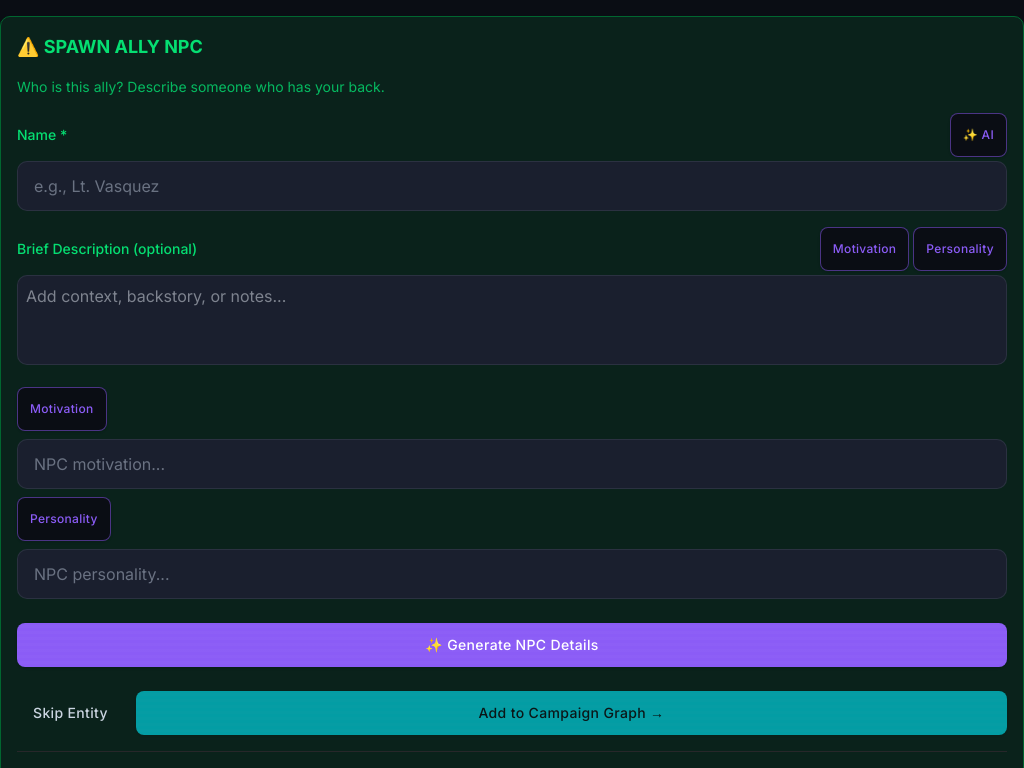
Test: EntitySpawnForm › disables the Add button when the generated NPC name is pending GM review in strict mode
Type "Manual Name" into the field labelled "Name *". click: (512, 186)
box: [17,161,1007,211]
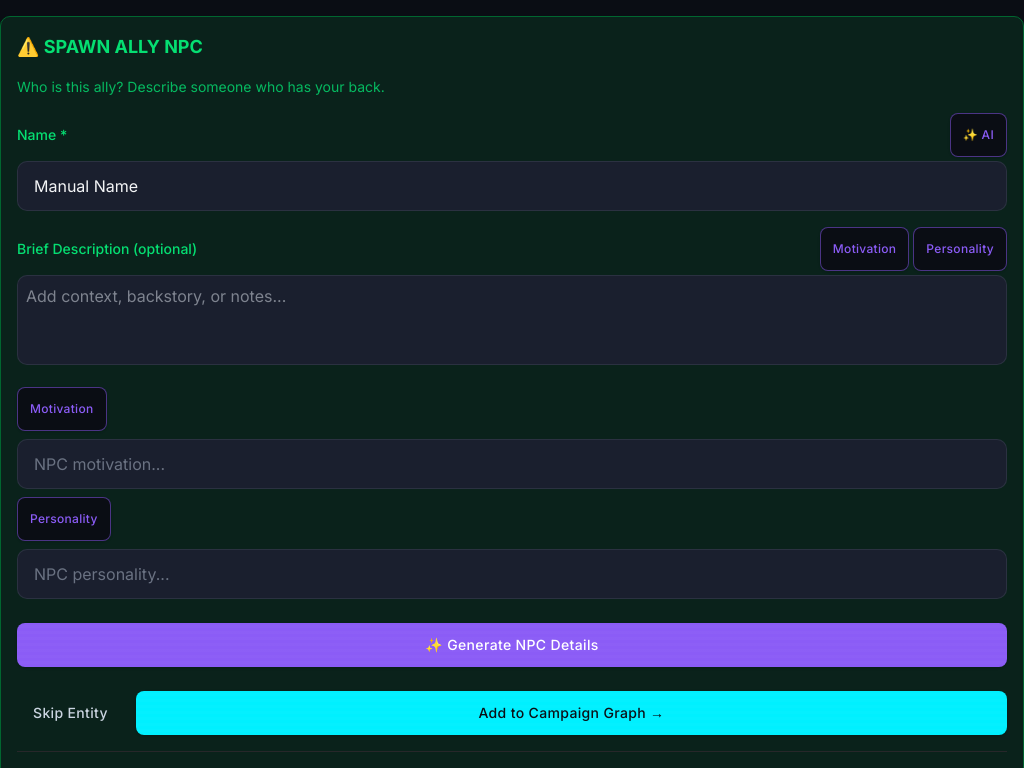
Now the button "Add to Campaign Graph →" is enabled, box [136,691,1007,735]
Click the button "✨ AI". click: (978, 135)
box: [950,113,1007,157]
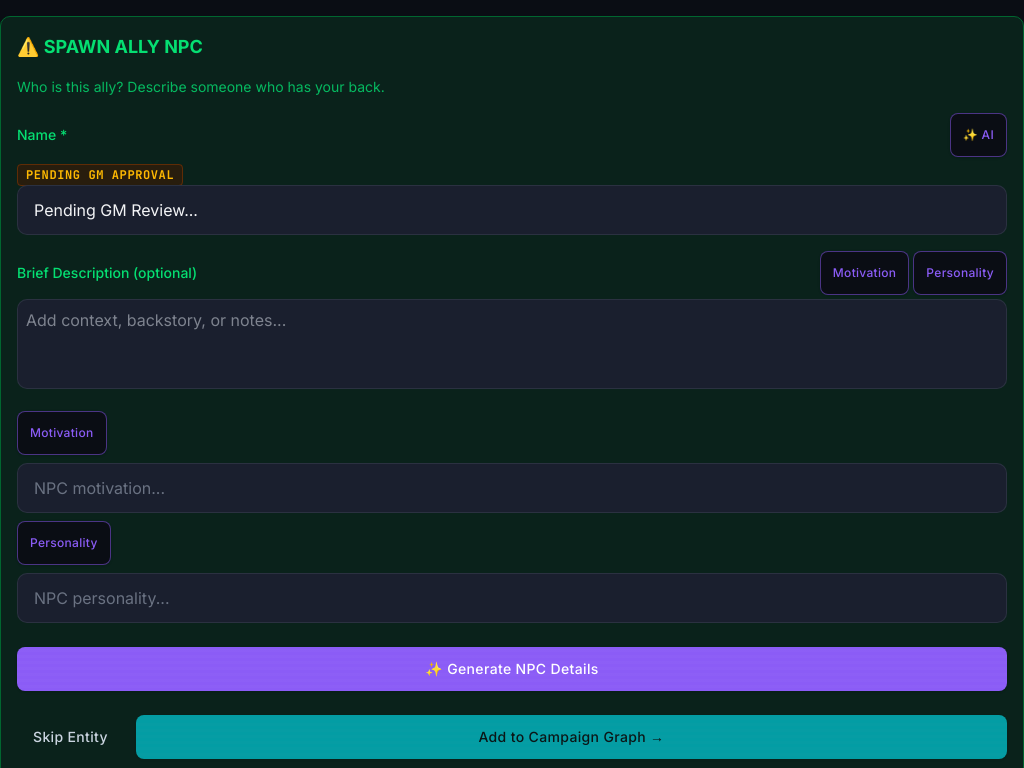
Now the button "Add to Campaign Graph →" is disabled, box [136,715,1007,759]
Now the text "Pending GM Approval" is shown, box [17,164,183,186]
